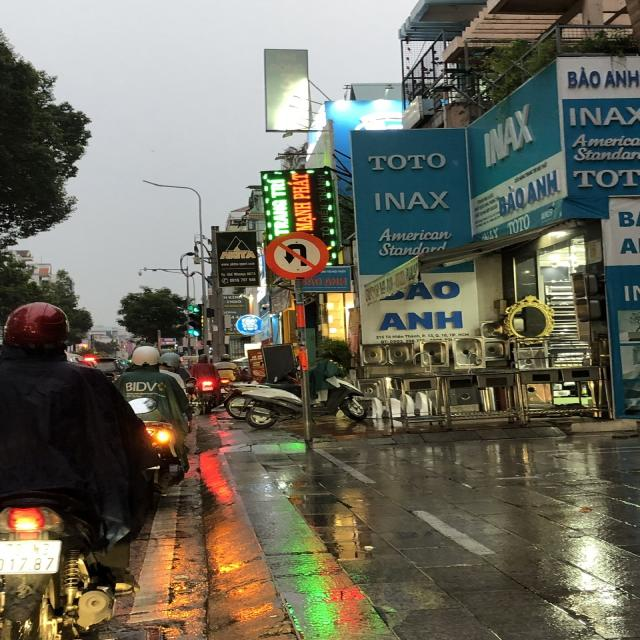Bien bao cam quay dau xe: (262, 230, 332, 282)
